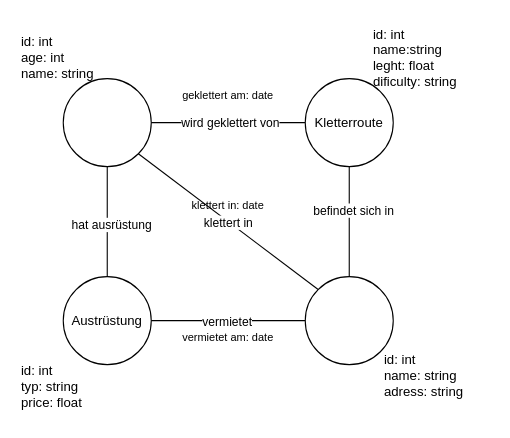
Image size: 510x438. Some labels were removed from this diagram. The shapes that lost their labels are listed below. From the top down, each one's centre as x and y in pixels, then its label:
[106,122]: Kletterer
[348,320]: Kletterhalle
